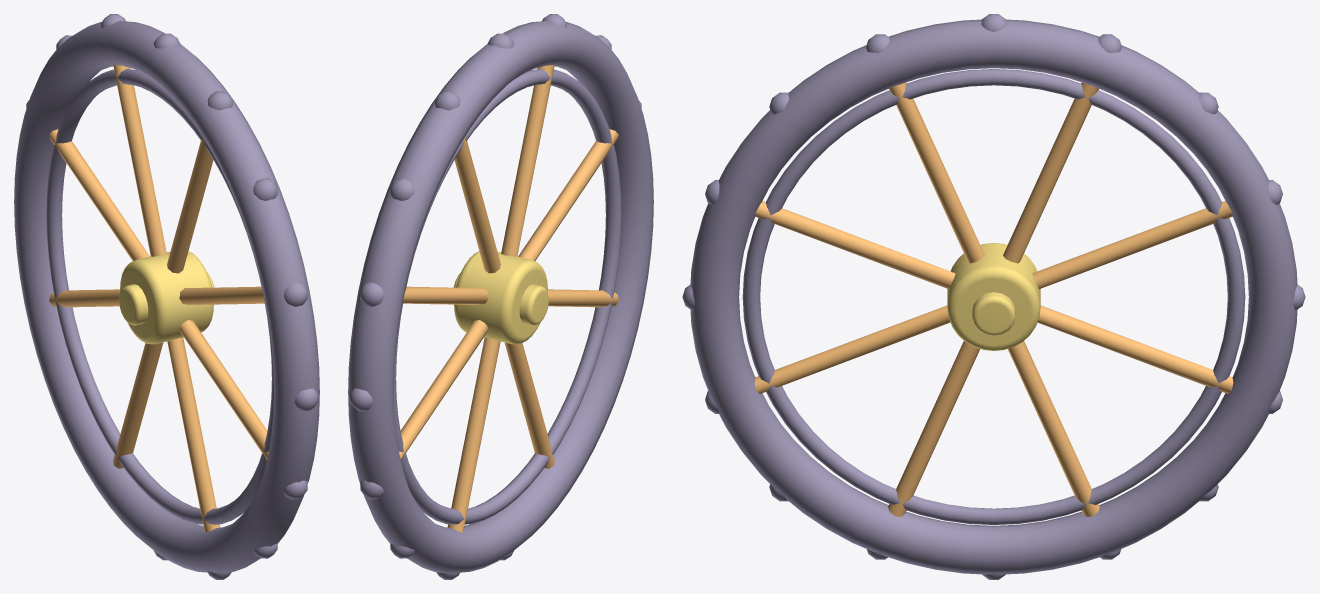
The model's file is FireWheel.glb.
3 views of the same model, side by side, from view 1: azimuth 30°, elevation 25°; view 2: azimuth 150°, elevation 25°; view 3: azimuth 270°, elevation 25° (orthographic). The views are drawn at different scales.
Visible parts, largest first — view 1: Rim, Spokes, Hub; view 2: Rim, Spokes, Hub; view 3: Rim, Spokes, Hub.
Boxes of the visible parts, left/top/right/bottom form: Rim: left=14, top=14, right=319, bottom=579; Spokes: left=49, top=65, right=268, bottom=532; Hub: left=119, top=251, right=214, bottom=344; Rim: left=348, top=14, right=653, bottom=579; Spokes: left=399, top=65, right=618, bottom=532; Hub: left=453, top=251, right=548, bottom=344; Rim: left=682, top=14, right=1305, bottom=579; Spokes: left=754, top=82, right=1233, bottom=516; Hub: left=947, top=243, right=1040, bottom=350.
Bounding box in the file's own units: 3.6 × 22.74 × 22.74.
